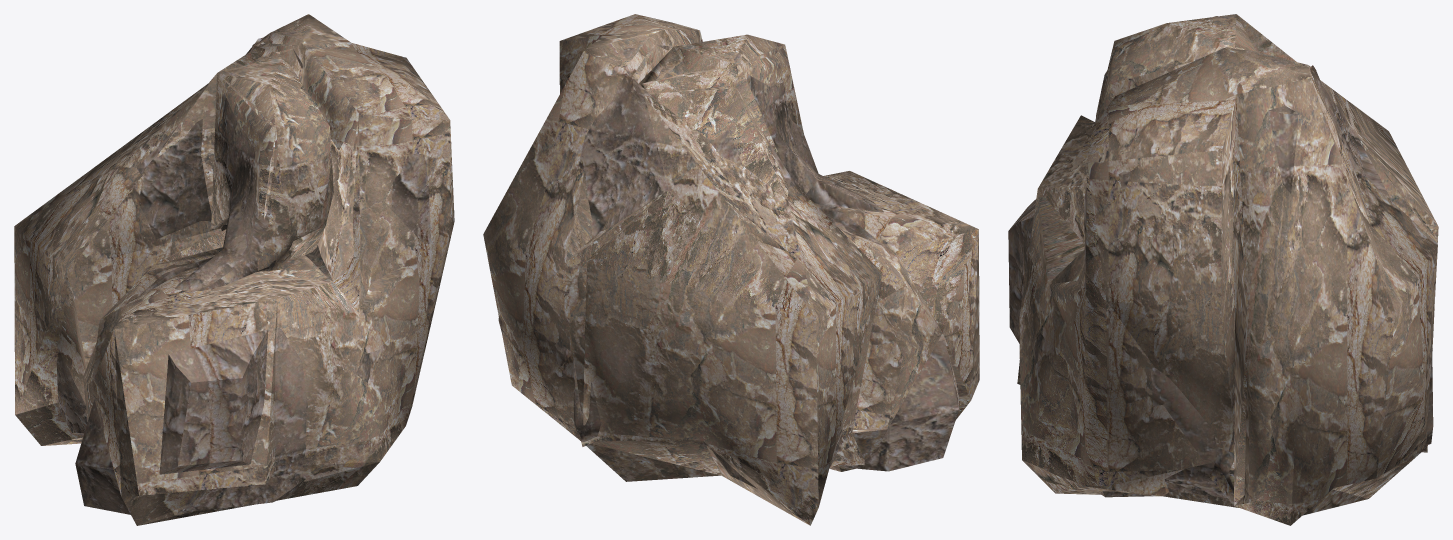
File: AfricaRock_01.dae
3 views of the same model, side by side, from view 1: azimuth 30°, elevation 25°; view 2: azimuth 150°, elevation 25°; view 3: azimuth 270°, elevation 25° (orthographic). The views are drawn at different scales.
Visible parts, largest first — view 1: AfricaRockOne128, AfricaRockOne256, AfricaRockOne64; view 2: AfricaRockOne128, AfricaRockOne64, AfricaRockOne256; view 3: AfricaRockOne128, AfricaRockOne64, AfricaRockOne256.
Part boxes in pixels (x1=…): AfricaRockOne128: x1=14, y1=14, x2=454, y2=525; AfricaRockOne256: x1=56, y1=30, x2=430, y2=514; AfricaRockOne64: x1=14, y1=14, x2=413, y2=414; AfricaRockOne128: x1=483, y1=14, x2=979, y2=525; AfricaRockOne64: x1=559, y1=30, x2=978, y2=506; AfricaRockOne256: x1=498, y1=25, x2=959, y2=488; AfricaRockOne128: x1=1017, y1=14, x2=1438, y2=525; AfricaRockOne64: x1=1037, y1=14, x2=1437, y2=525; AfricaRockOne256: x1=1008, y1=16, x2=1433, y2=497.
Size of what is drawn, in the model's own units: 10.88 by 9.04 by 10.83.
